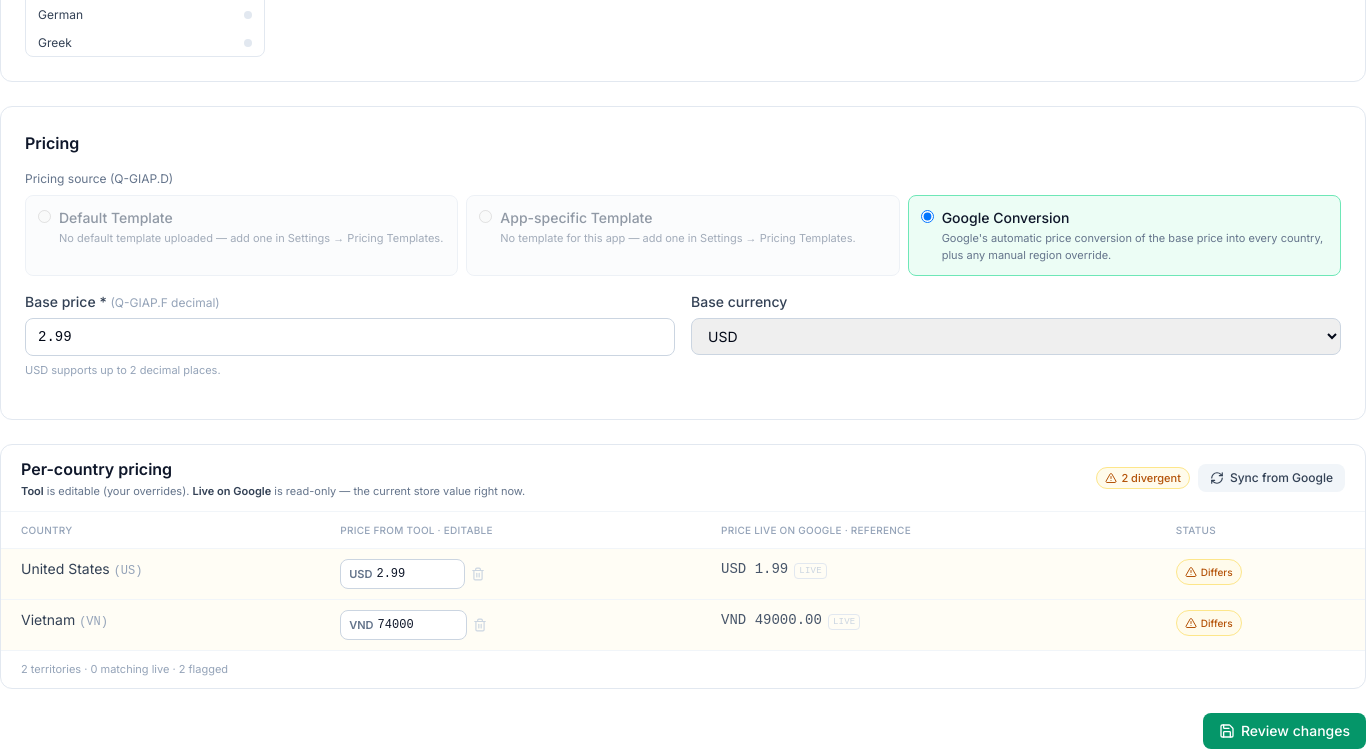
Scenario: SC2 — re-seed kills the write-backwards diff › a pure Sync from Google leaves NOTHING to submit
(page scrolled)
expect the heading "Per-country pricing" is shown: met, box [21,458,172,478]
Click the button "Review changes".
click(1284, 730)  # box [1203,712,1365,748]
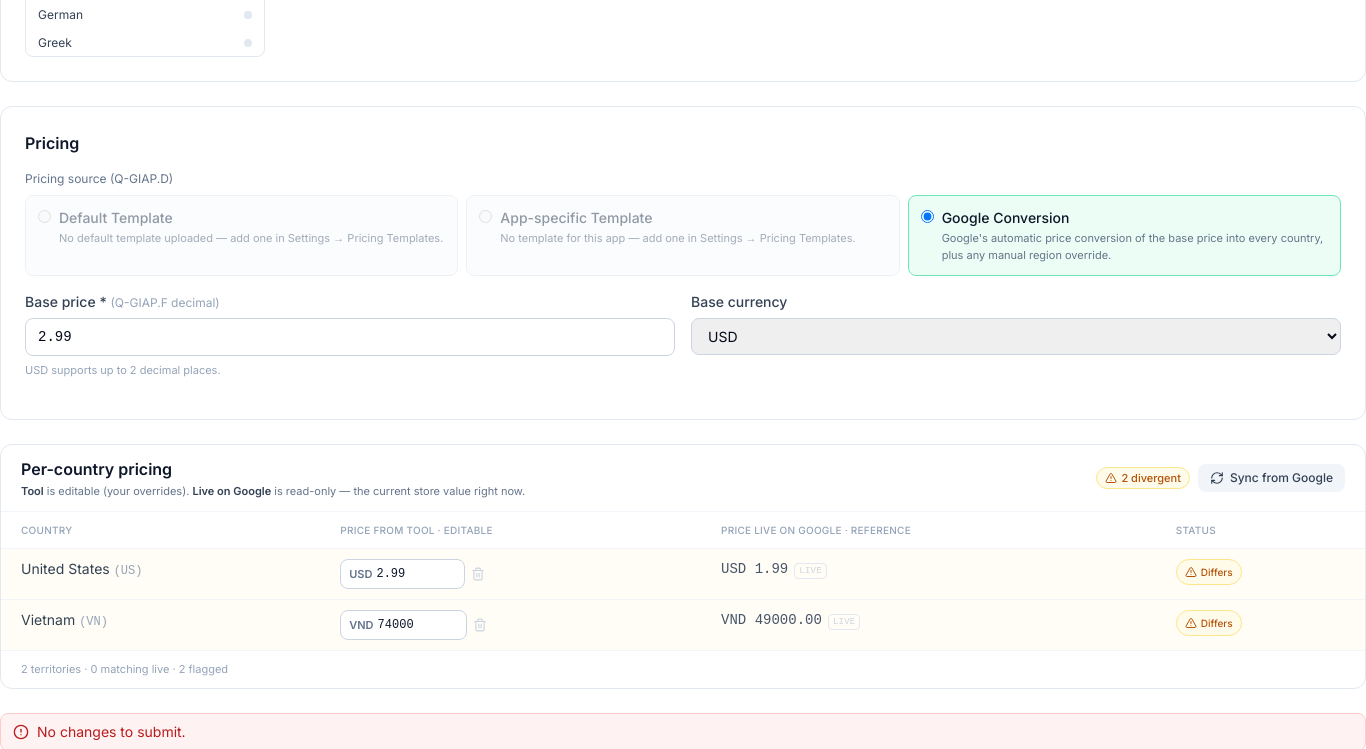
expect the text "No changes to submit." is shown: met, box [37,722,186,742]
